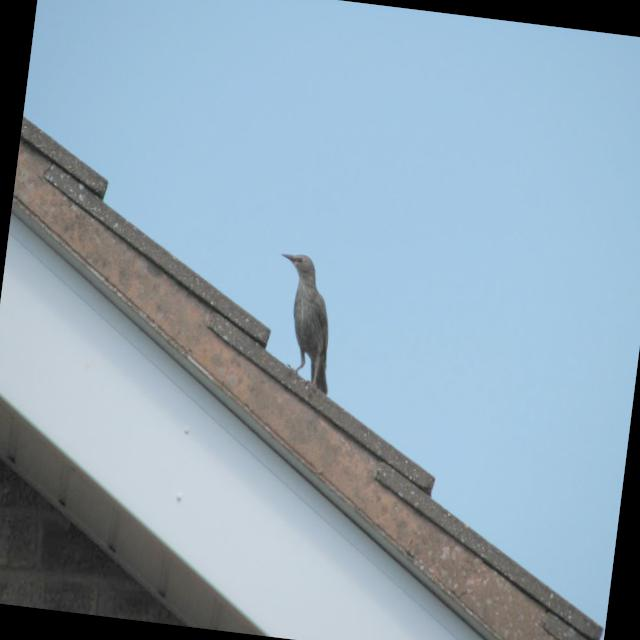bird: (263, 248, 347, 397)
